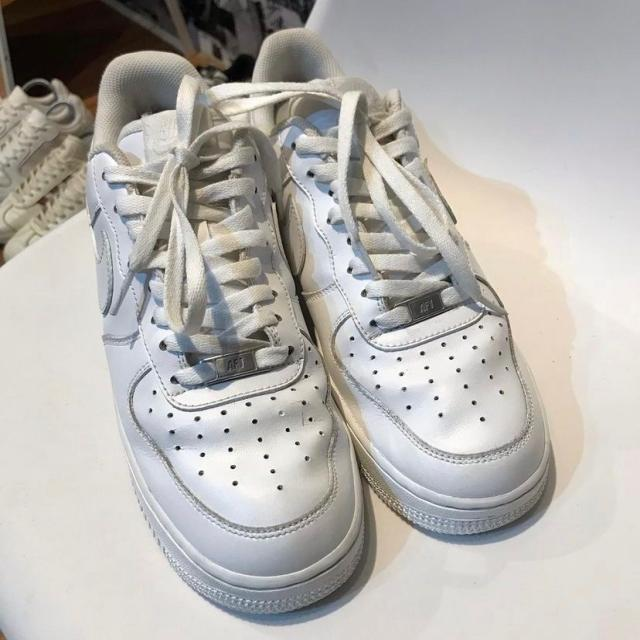nike original air force: (88, 49, 368, 614), (254, 23, 554, 540)
